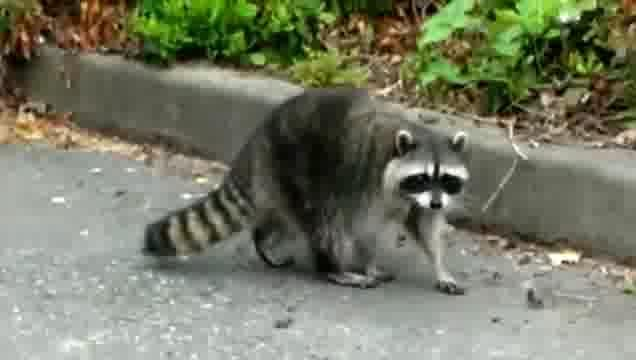raccoon: (142, 87, 473, 297)
